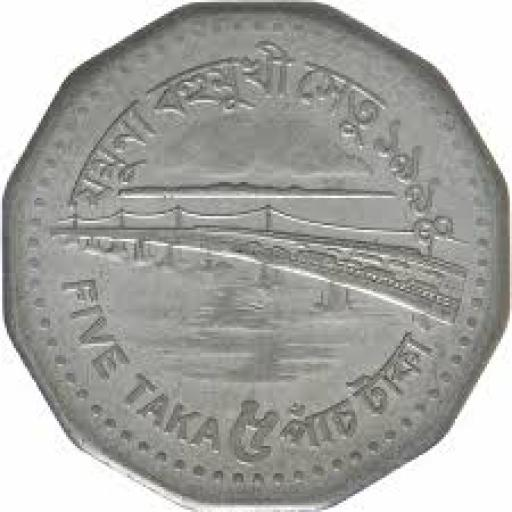5taka: (2, 2, 510, 510)
